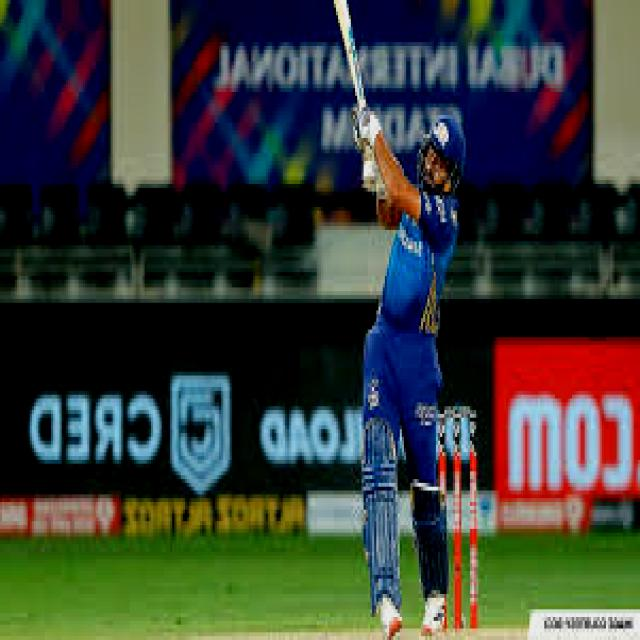toe: (331, 0, 355, 28)
